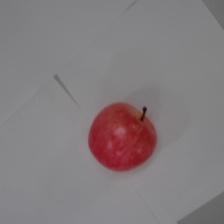red: (87, 99, 158, 172)
